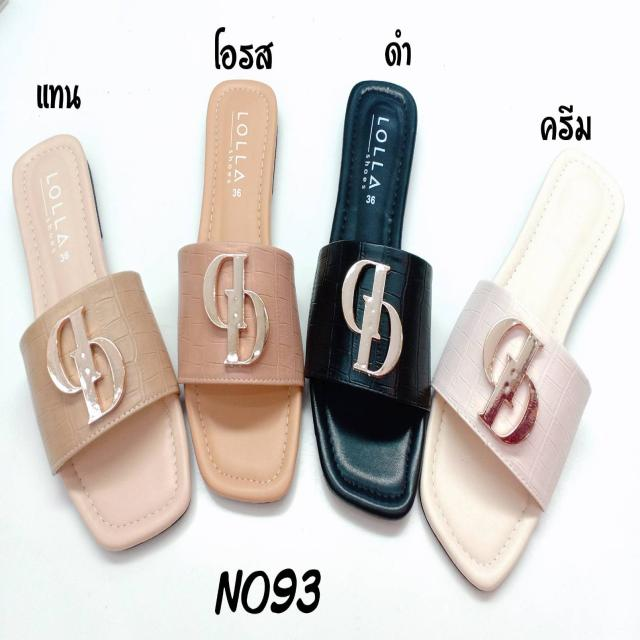black: (310, 79, 432, 516)
cream: (424, 142, 620, 578)
orot: (186, 77, 307, 493)
tan: (12, 140, 187, 545)
